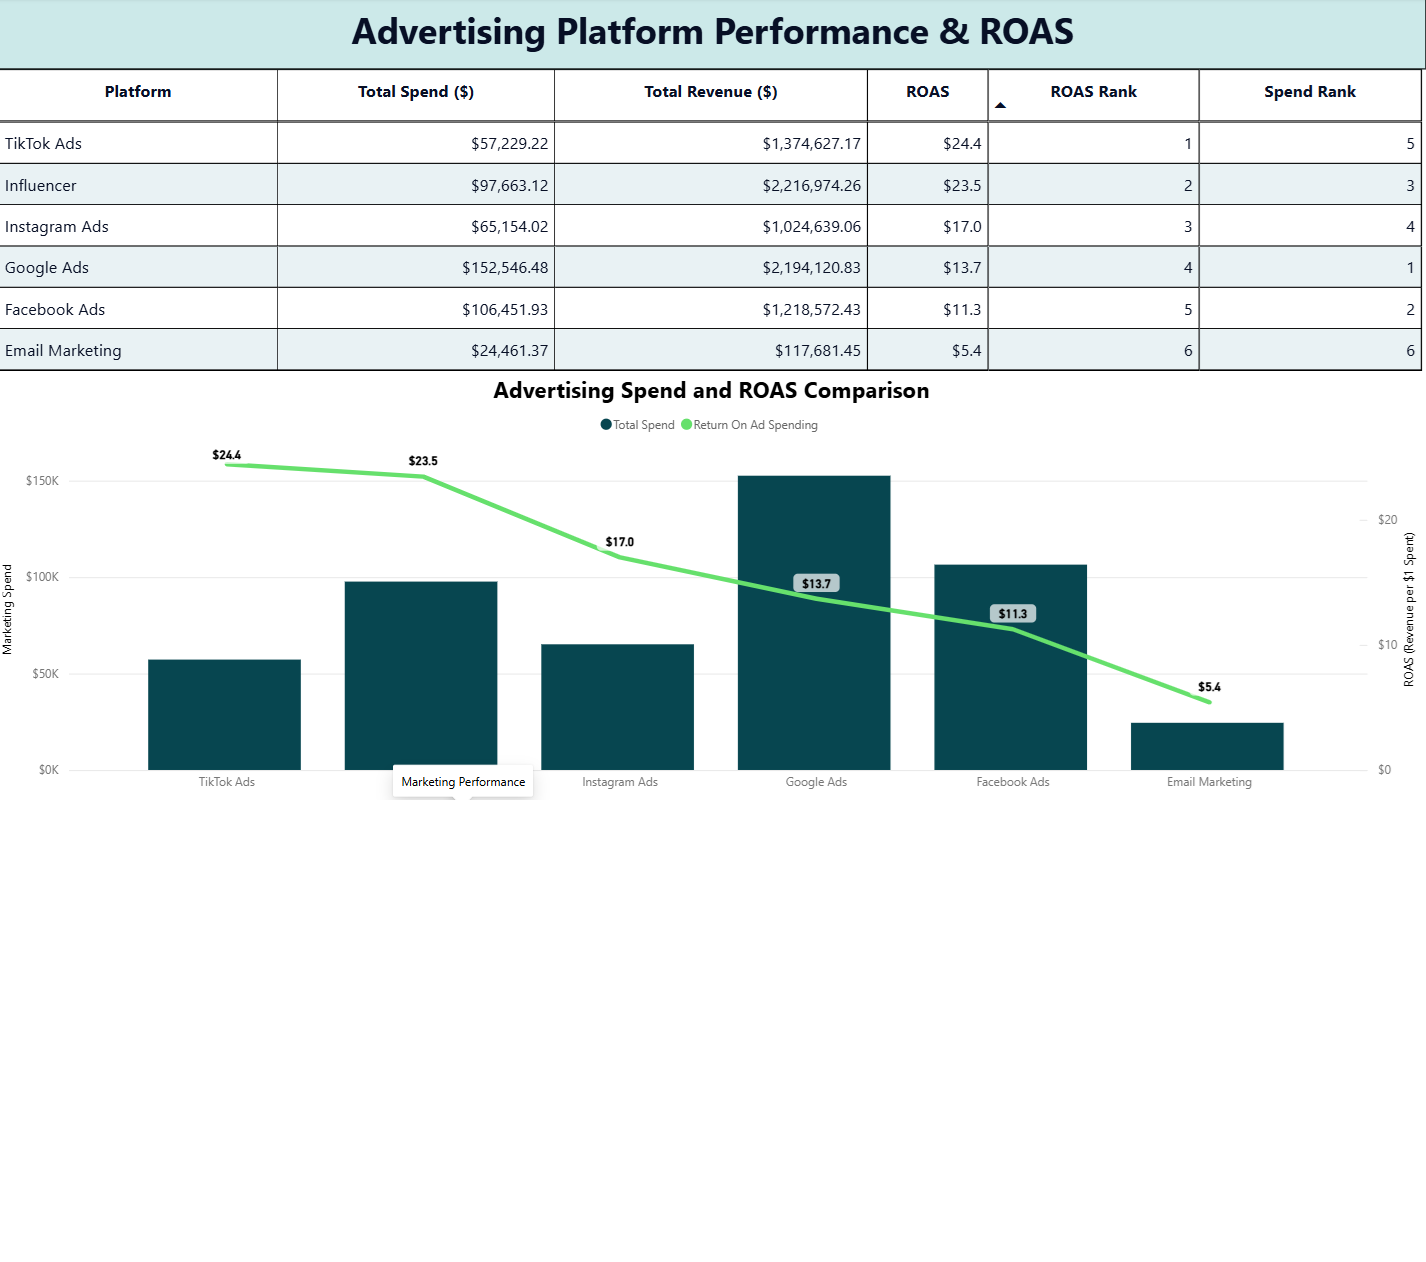

Layout of this report page (visuals, bound fields, positions):
{"tool":"powerbi","page":{"name":"Marketing Performance","canvas":[1280,720],"ordinal":3},"visuals":[{"type":"lineStackedColumnComboChart","title":"Advertising Spend and ROAS Comparison","fields":{"Category":["e_commerce vw_marketing_platforms.platform"],"Y":["Avg(e_commerce vw_marketing_platforms.total_spend)"],"Y2":["Avg(e_commerce vw_marketing_platforms.avg_roas)"]},"box":[0,335.8,1279.7,384.2],"z":0},{"type":"tableEx","fields":{"Values":["e_commerce vw_marketing_platforms.platform","Sum(e_commerce vw_marketing_platforms.total_spend)","Sum(e_commerce vw_marketing_platforms.total_revenue)","Sum(e_commerce vw_marketing_platforms.avg_roas)","Sum(e_commerce vw_marketing_platforms.roas_rank)","Sum(e_commerce vw_marketing_platforms.spend_rank)"]},"box":[0,63.6,1279.7,272.2],"z":1},{"type":"textbox","box":[0,0,1279.7,63.6],"z":2}]}

Visuals, with their boxes on the page's 1280x720 design canvas (x1, y1, x2, y2). These are canvas units, not pixel positions in the 1426x1262 screenshot, which may show the page scaled, cropped or inside an application window:
"Advertising Spend and ROAS Comparison" lineStackedColumnComboChart: box=[0, 336, 1280, 720]
tableEx - e_commerce vw_marketing_platforms.platform x Sum(e_commerce vw_marketing_platforms.total_spend): box=[0, 64, 1280, 336]
textbox: box=[0, 0, 1280, 64]
